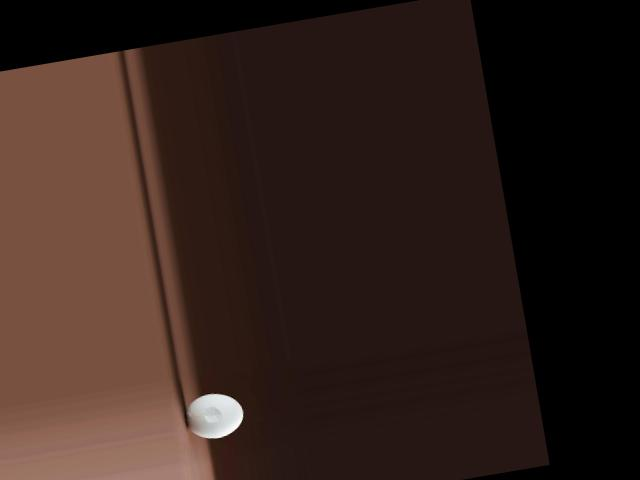egg: (182, 389, 247, 442)
